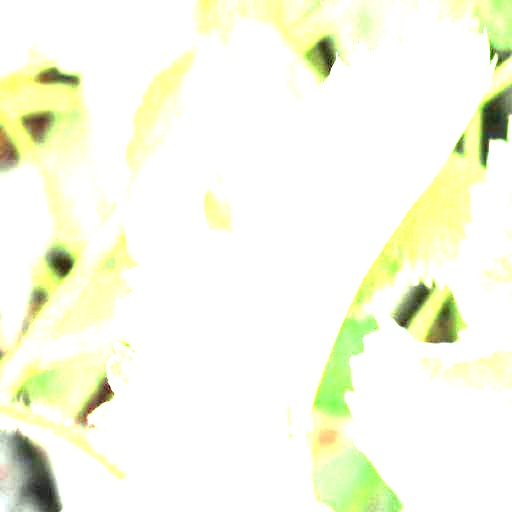Powdery Mildew Leaf: (261, 14, 498, 438), (88, 230, 289, 446)
